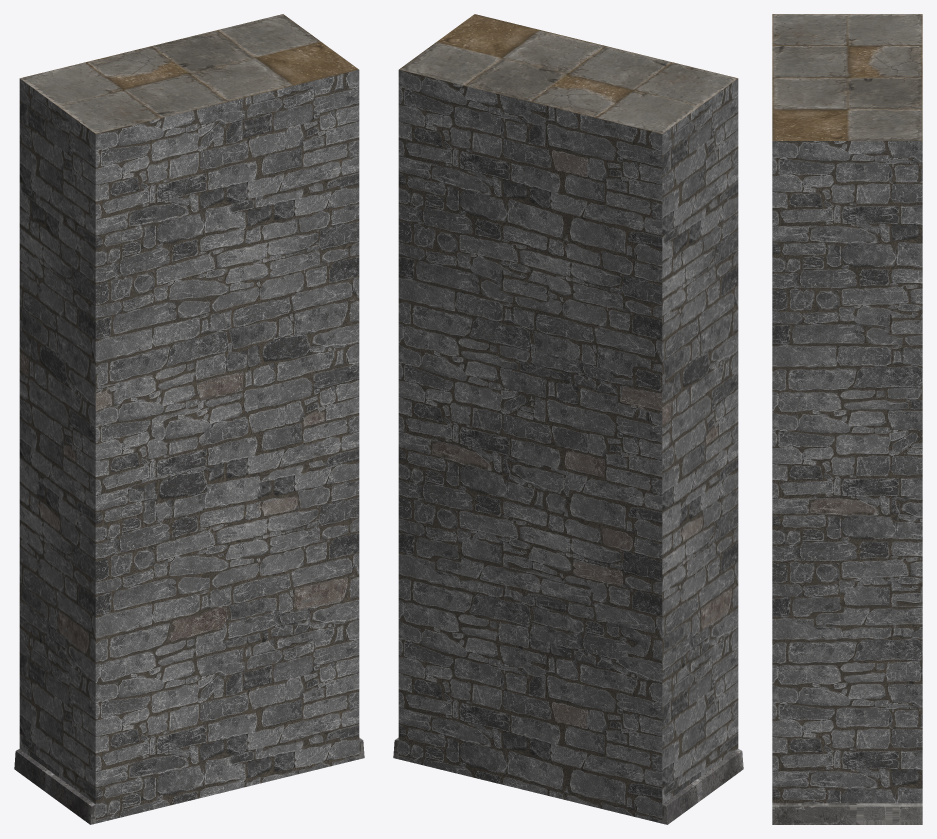
The model's file is MC_Castle_Wall_B_2m.fbx.
3 views of the same model, side by side, from view 1: azimuth 30°, elevation 25°; view 2: azimuth 150°, elevation 25°; view 3: azimuth 270°, elevation 25° (orthographic).
Visible parts, largest first — view 1: MC_Castle_Wall_B_2m; view 2: MC_Castle_Wall_B_2m; view 3: MC_Castle_Wall_B_2m.
Part boxes in pixels (left/top/right/bottom): MC_Castle_Wall_B_2m: left=14, top=14, right=364, bottom=824; MC_Castle_Wall_B_2m: left=393, top=14, right=743, bottom=824; MC_Castle_Wall_B_2m: left=772, top=14, right=922, bottom=824.
Bounding box in the file's own units: 416 × 1000 × 200.
